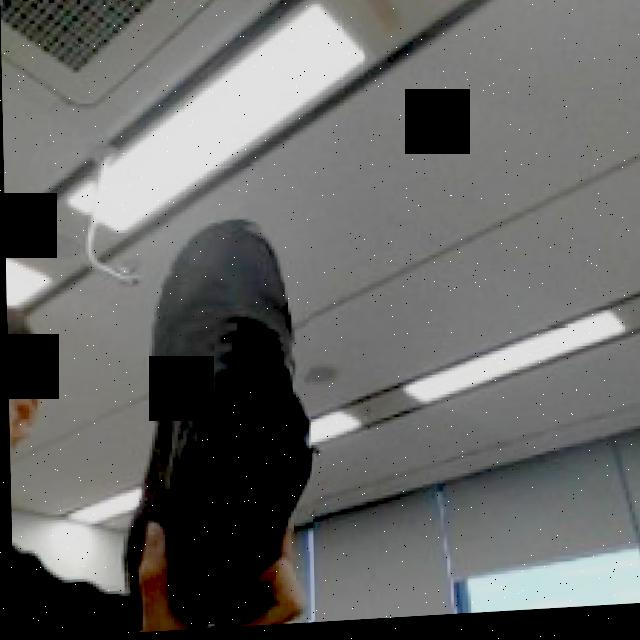shoe: (115, 214, 312, 633)
